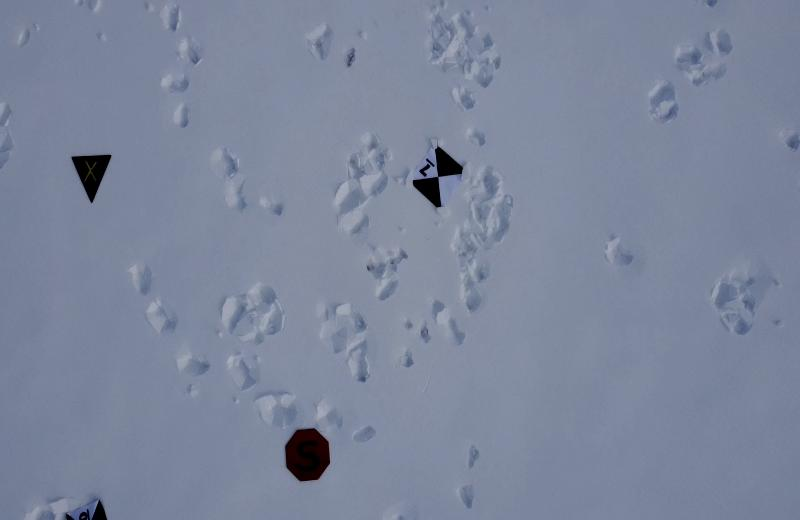Octagon: (283, 428, 330, 482)
Triangle: (70, 146, 113, 203)
